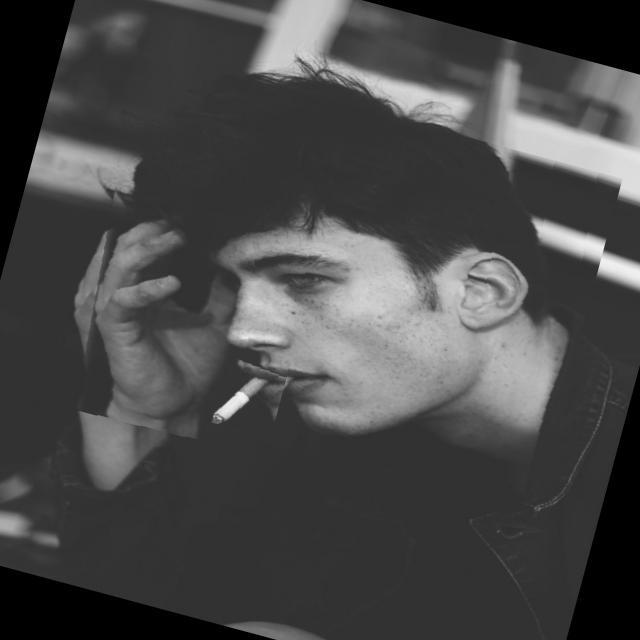cigarette: (210, 355, 288, 438)
